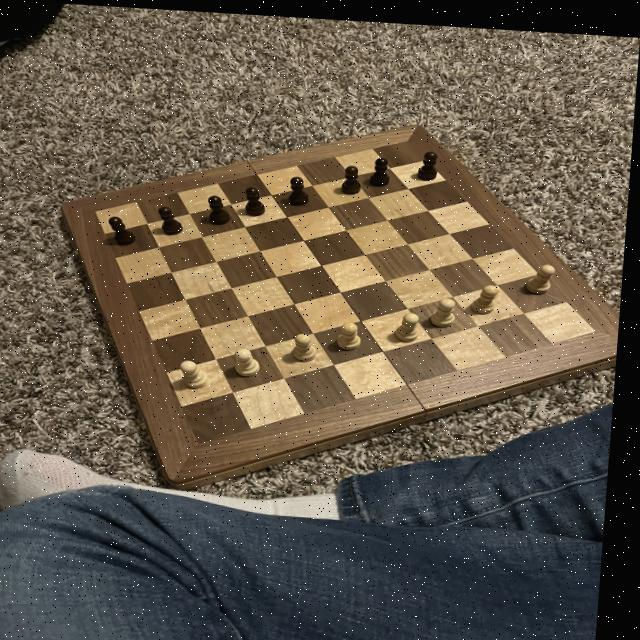black-knight: (528, 256, 561, 290), (156, 202, 188, 235), (110, 214, 141, 245), (208, 192, 235, 224), (288, 171, 314, 204), (417, 144, 442, 177), (246, 182, 271, 214), (369, 151, 394, 183), (342, 160, 366, 193)
white-knight: (182, 357, 218, 388), (473, 277, 504, 310), (293, 328, 325, 359), (238, 344, 268, 376), (340, 316, 369, 347), (433, 292, 461, 323), (400, 306, 426, 338)
